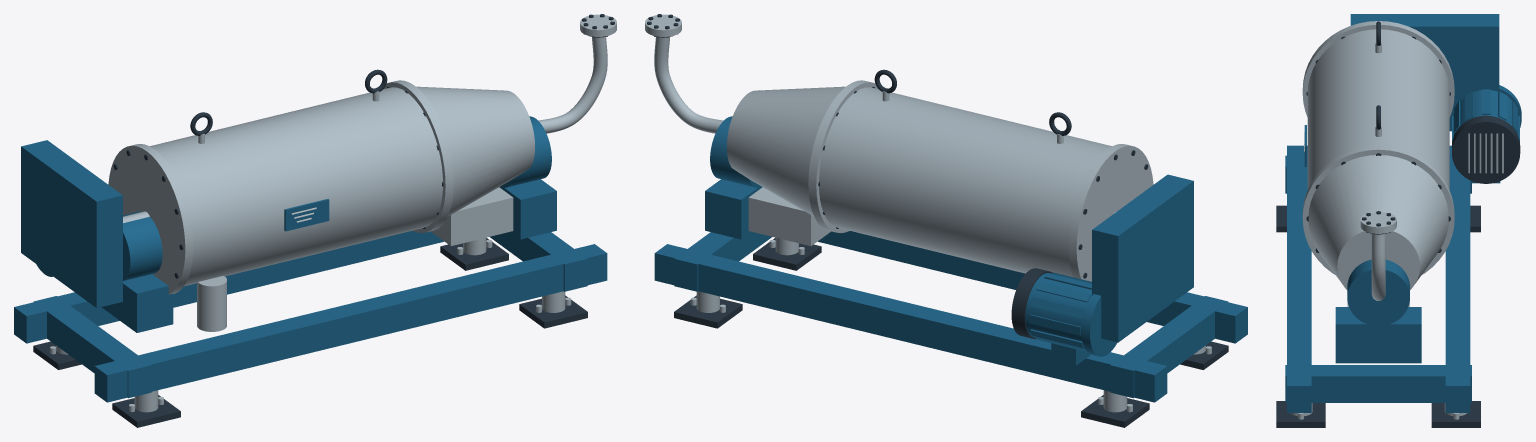
File: 固液分离器.8c96d335c9f2.glb
3 views of the same model, side by side, from view 1: azimuth 30°, elevation 25°; view 2: azimuth 150°, elevation 25°; view 3: azimuth 270°, elevation 25° (orthographic).
Visible parts, largest first — view 1: separator_shell, separator_frame, solid-liquid-separator, separator_frame_leg_3, separator_frame_leg_2, separator_frame_leg_1, solid-liquid-separator_flange_89, separator_frame_leg_0; view 2: separator_shell, separator_frame, solid-liquid-separator, separator_motor, separator_frame_leg_1, separator_frame_leg_0, separator_frame_leg_3, solid-liquid-separator_flange_89, separator_frame_leg_2; view 3: separator_shell, separator_frame, solid-liquid-separator, separator_motor, separator_frame_leg_3, separator_frame_leg_1, solid-liquid-separator_flange_89, separator_frame_leg_0, separator_frame_leg_2.
Boxes of the visible parts, x1=… form: separator_shell: x1=108, y1=69, x2=534, y2=294; separator_frame: x1=14, y1=231, x2=607, y2=402; solid-liquid-separator: x1=21, y1=37, x2=607, y2=332; separator_frame_leg_3: x1=519, y1=291, x2=587, y2=328; separator_frame_leg_2: x1=112, y1=390, x2=180, y2=427; separator_frame_leg_1: x1=440, y1=237, x2=508, y2=270; solid-liquid-separator_flange_89: x1=580, y1=14, x2=616, y2=37; separator_frame_leg_0: x1=33, y1=341, x2=81, y2=369; separator_shell: x1=727, y1=69, x2=1153, y2=281; separator_frame: x1=654, y1=231, x2=1247, y2=402; solid-liquid-separator: x1=654, y1=37, x2=1193, y2=342; separator_motor: x1=1011, y1=268, x2=1117, y2=365; separator_frame_leg_1: x1=674, y1=291, x2=742, y2=328; separator_frame_leg_0: x1=1081, y1=390, x2=1149, y2=427; separator_frame_leg_3: x1=753, y1=237, x2=821, y2=270; solid-liquid-separator_flange_89: x1=645, y1=14, x2=681, y2=37; separator_frame_leg_2: x1=1180, y1=341, x2=1228, y2=369; separator_shell: x1=1302, y1=21, x2=1454, y2=289; separator_frame: x1=1285, y1=145, x2=1471, y2=412; solid-liquid-separator: x1=1335, y1=14, x2=1499, y2=363; separator_motor: x1=1452, y1=85, x2=1521, y2=183; separator_frame_leg_3: x1=1276, y1=401, x2=1325, y2=427; separator_frame_leg_1: x1=1431, y1=401, x2=1480, y2=427; solid-liquid-separator_flange_89: x1=1360, y1=211, x2=1396, y2=234; separator_frame_leg_0: x1=1470, y1=205, x2=1480, y2=232; separator_frame_leg_2: x1=1276, y1=205, x2=1286, y2=232.
Size of the model in its own units: 3.81 by 1.64 by 1.49.
